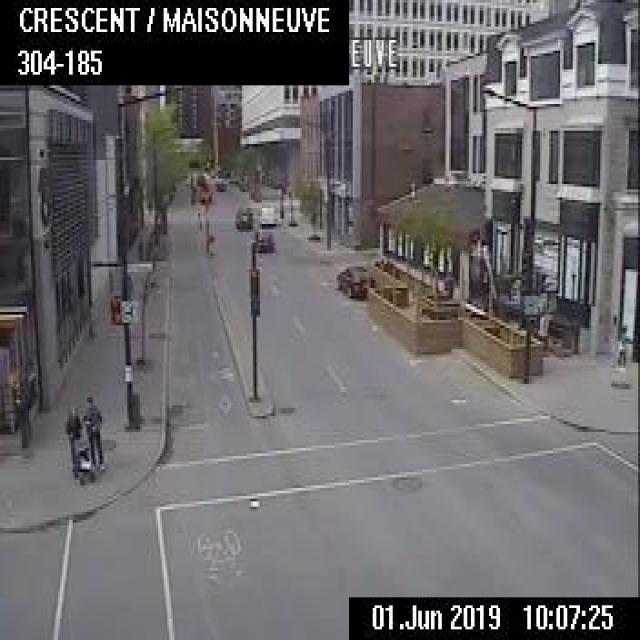pedestrian: (64, 403, 94, 483), (83, 393, 105, 470), (614, 322, 627, 367)
vehicle: (335, 264, 374, 296), (253, 228, 274, 250), (234, 204, 253, 227), (258, 202, 274, 225), (214, 177, 226, 190)
